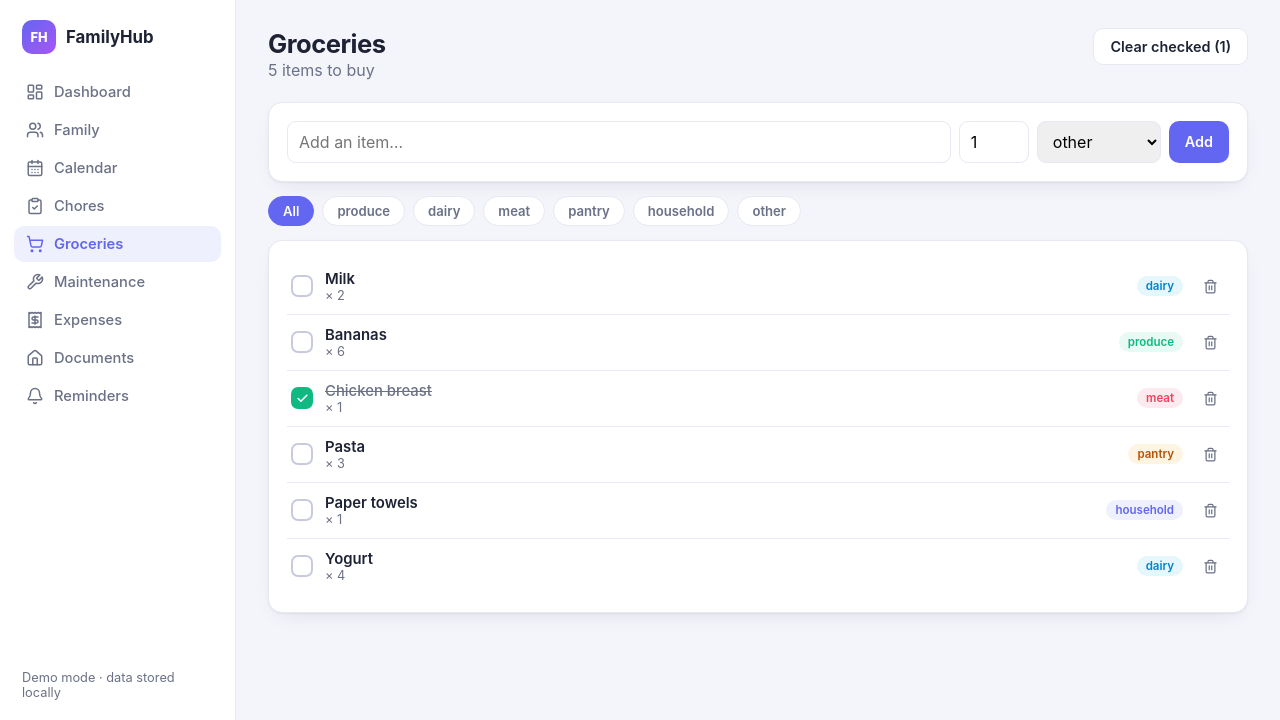
FamilyHub app › navigates to groceries and adds an item
expect the text "Bananas" is shown: met, box 325,326 -> 387,344
In the field with placeholder "Add an item…": (619, 142) 287,121 -> 951,163, type "Bread"
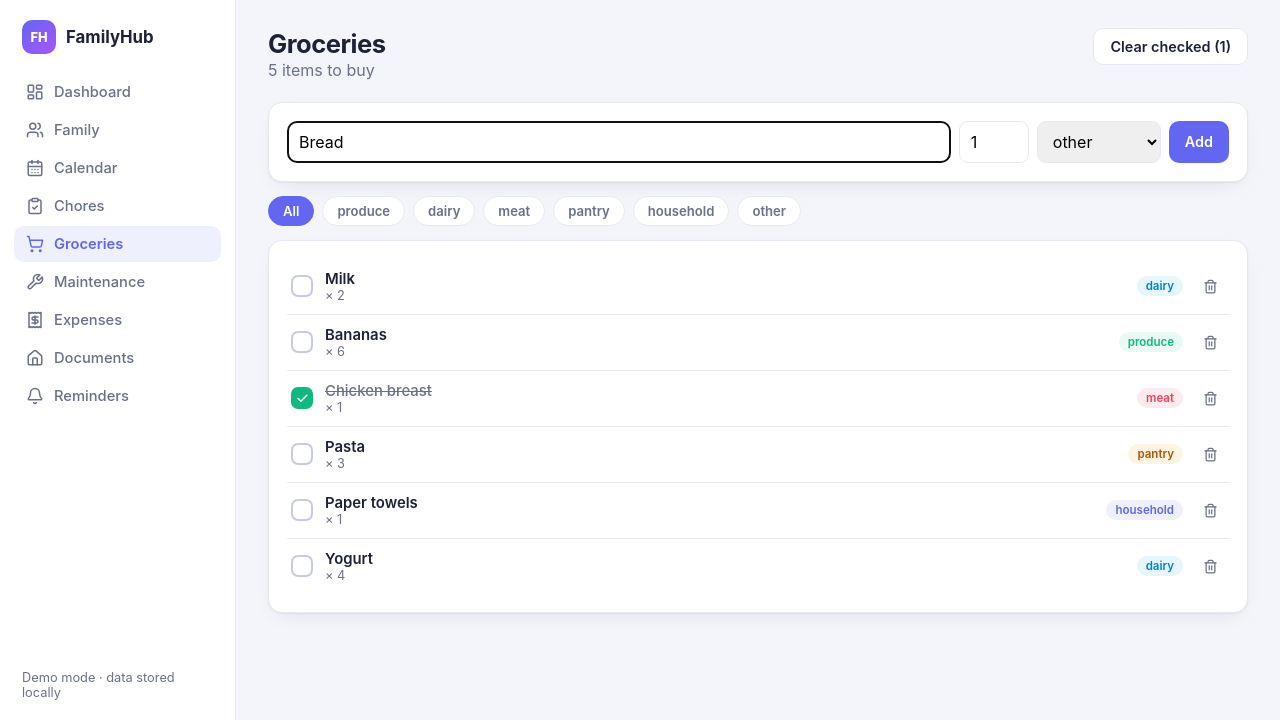
Click the button "Add": (1199, 142) 1169,121 -> 1229,163
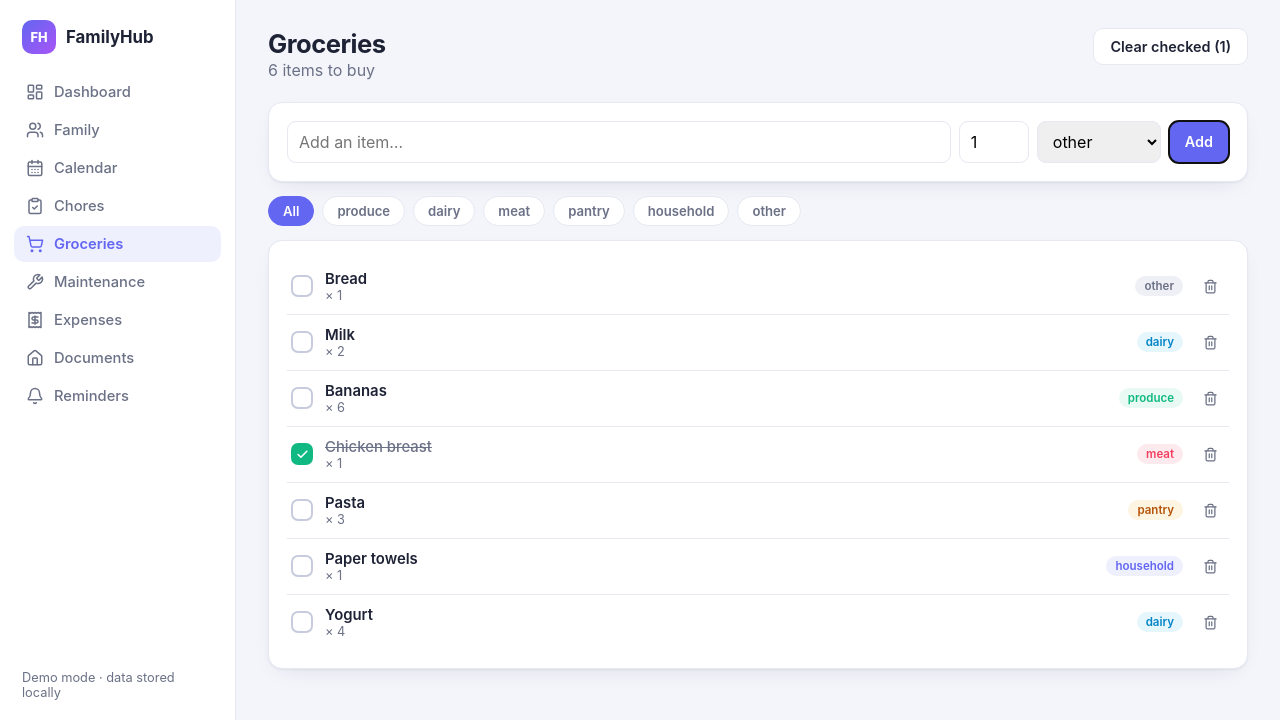
expect the text "Bread" is shown: met, box 325,270 -> 367,288
